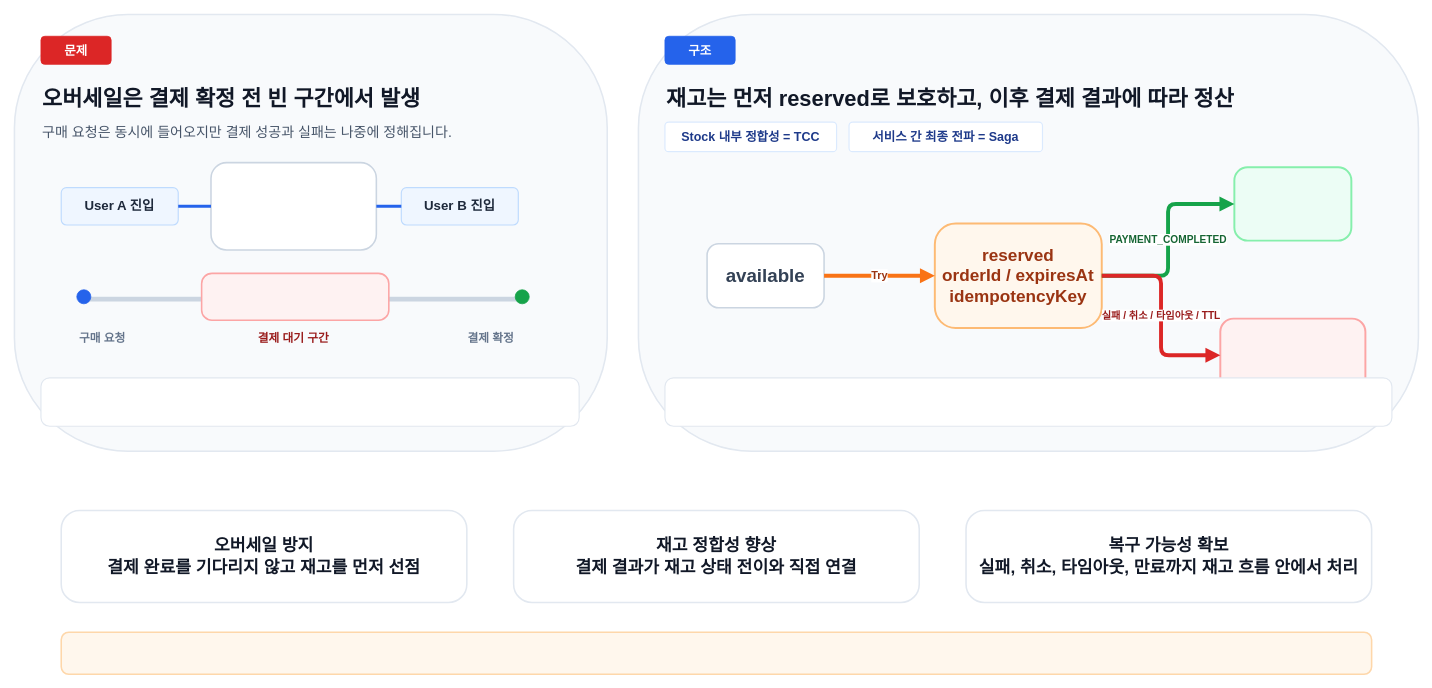
The diagram is 1432 pixels wide and 688 high, and some of its shapes have lost their labels. The centre of each missing label's shape, as x and y in pixels:
"available Cancel / Expire" goes at (x=1292, y=355).
"sold Confirm" goes at (x=1292, y=203).
"Trade-off: reserved 상태, TTL, 복구 로직을 직접 관리해야 해서 구조는 더 복잡해집니다." goes at (x=716, y=653).
"결제 완료를 기다려서 재고를 차감하면 같은 수량에 중복 진입이 생길 수 있습니다." goes at (x=309, y=402).
"결제 전에 먼저 재고를 잠그고, 결제 결과가 오면 확정 또는 복구만 수행하도록 상태를 분리했습니다." goes at (x=1028, y=402).
"남은 재고 1개 결제 후 차감이면 둘 다 접근 가능" goes at (x=293, y=205).
